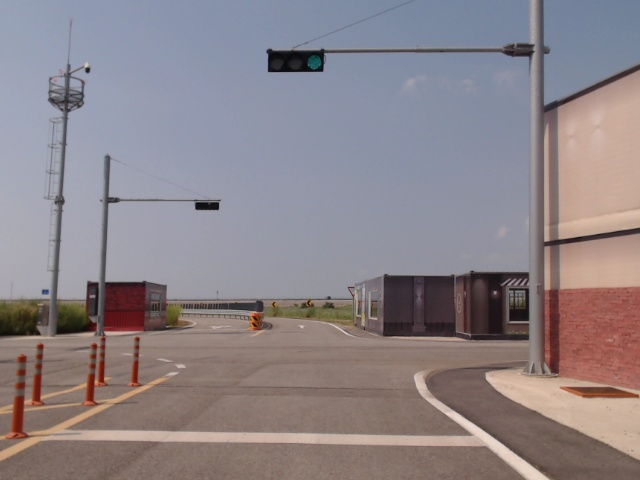green_3: (266, 51, 324, 72)
